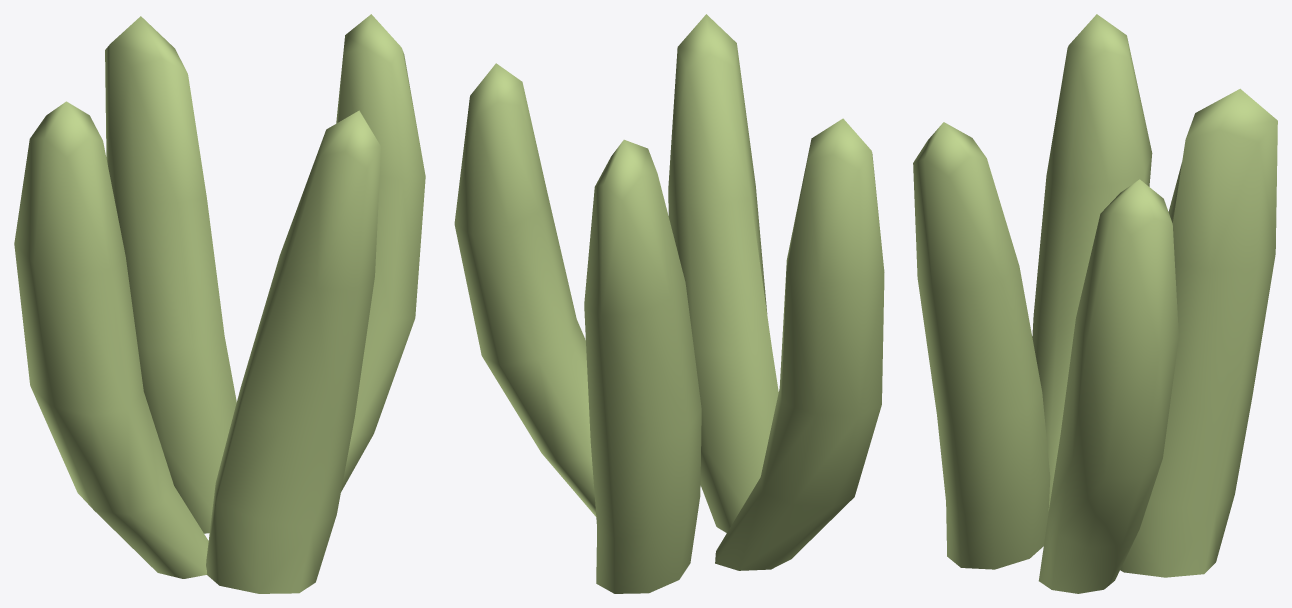
Rendered from Grass_03.fbx.
3 views of the same model, side by side, from view 1: azimuth 30°, elevation 25°; view 2: azimuth 150°, elevation 25°; view 3: azimuth 270°, elevation 25° (orthographic).
Parts seen in each view (by area): view 1: polySurface690; view 2: polySurface690; view 3: polySurface690.
Part boxes in pixels (left/top/right/bottom): polySurface690: left=14, top=14, right=425, bottom=593; polySurface690: left=454, top=14, right=884, bottom=593; polySurface690: left=913, top=14, right=1277, bottom=593.
Size of the model in its own units: 28.6 by 31.92 by 22.59.
